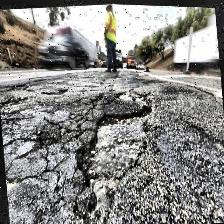pothole: (70, 100, 158, 190)
